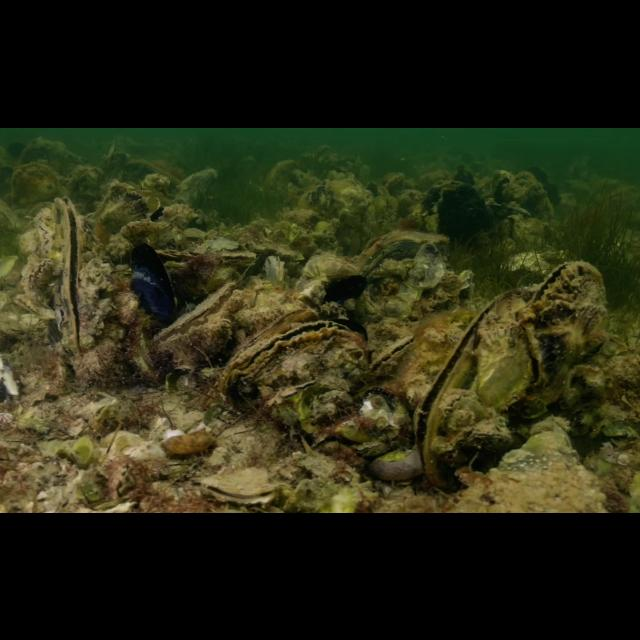Oyster-Closed: (154, 280, 236, 344), (353, 228, 453, 276), (126, 240, 180, 326), (154, 236, 256, 268), (13, 290, 57, 322), (438, 387, 478, 418), (34, 207, 58, 255), (351, 439, 393, 459), (28, 257, 56, 283)
Oyster-Open: (410, 283, 536, 491), (526, 257, 610, 395), (221, 318, 367, 396), (50, 196, 94, 360), (199, 460, 279, 506), (370, 333, 418, 373)
